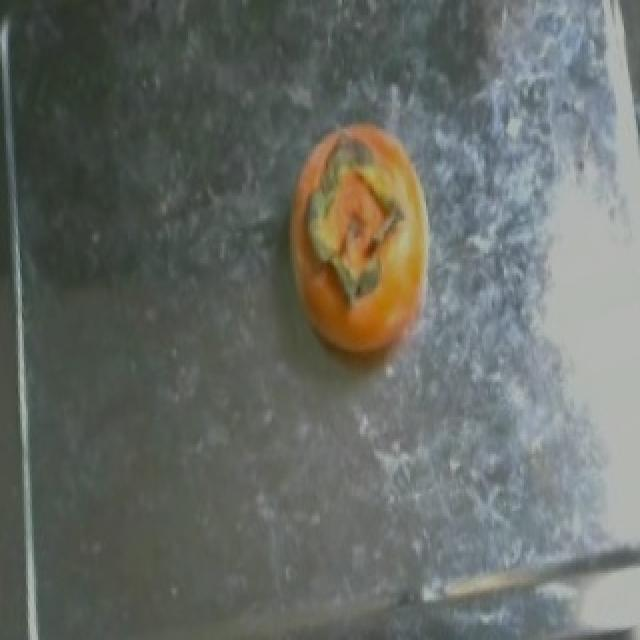Fruit: (270, 102, 458, 387)
